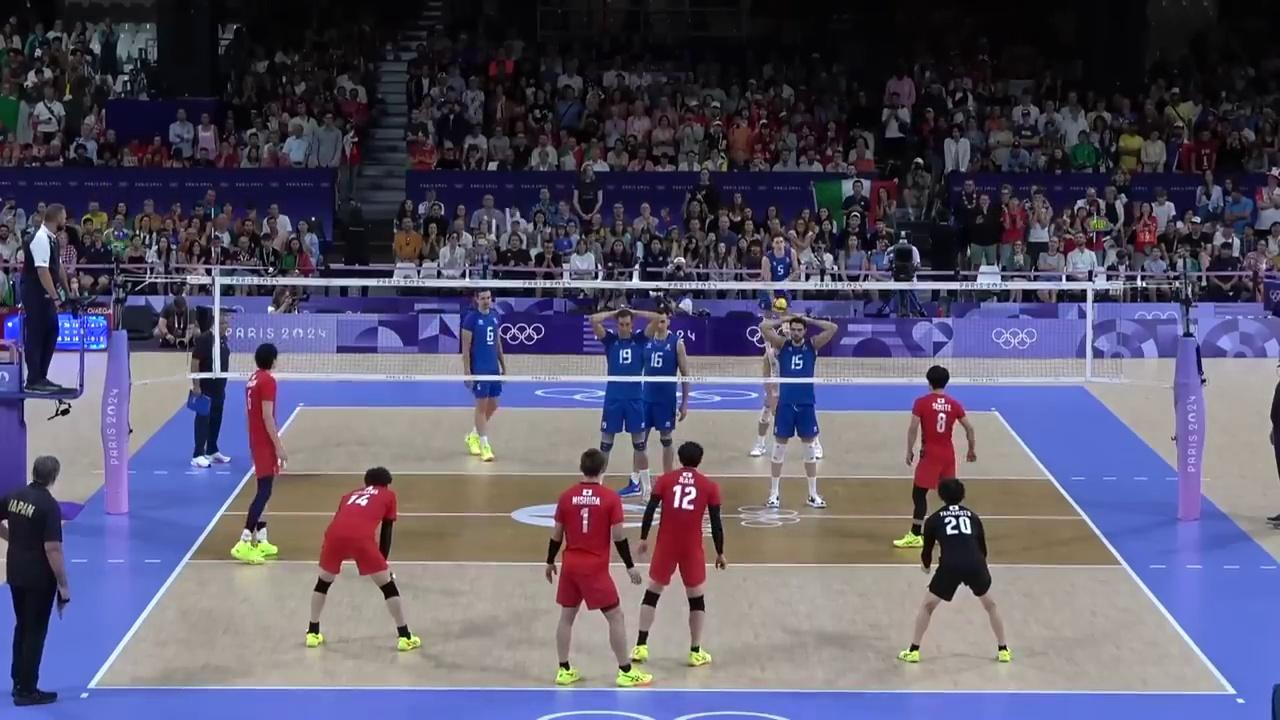ball: (772, 298, 787, 312)
